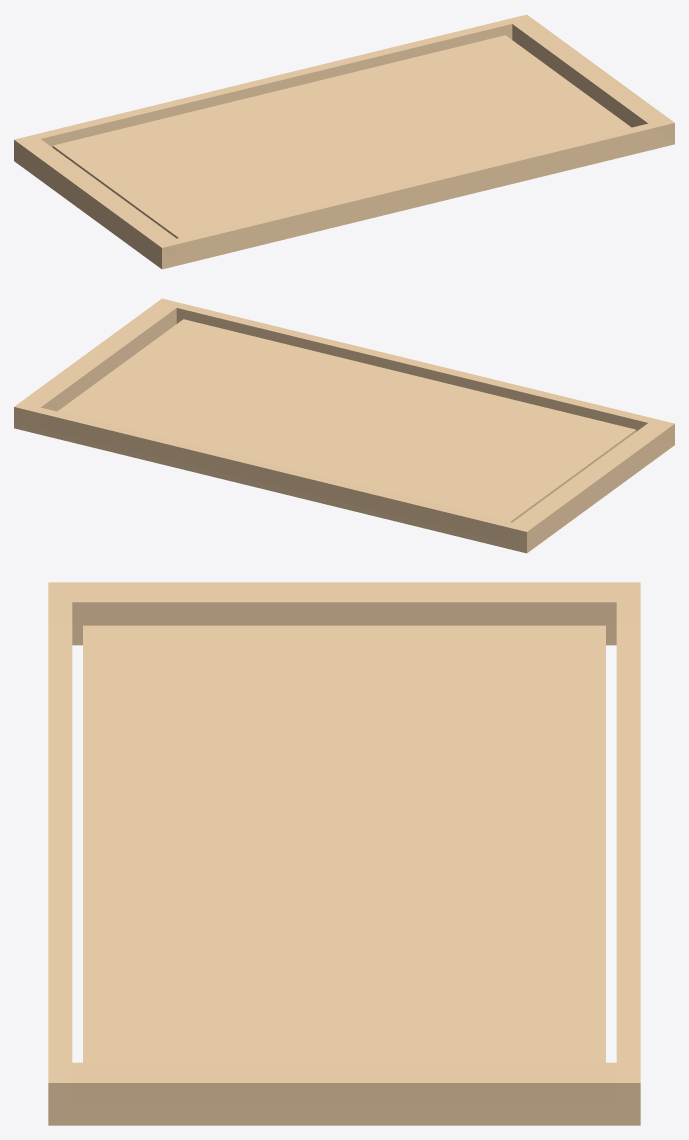
File: tile-rect-blue.glb
3 renders of one model, top to bottom at view 1: azimuth 30°, elevation 25°; view 2: azimuth 150°, elevation 25°; view 3: azimuth 270°, elevation 25°, orthographic. The views are drawn at different scales.
Visible parts, largest first — view 1: tile; view 2: tile; view 3: tile.
Part boxes in pixels (box(x1,y1,x2,y2)): tile: box(14, 14, 674, 269); tile: box(14, 298, 674, 553); tile: box(48, 582, 640, 1125).
Size of the model in its own units: 2 by 0.08 by 1.
